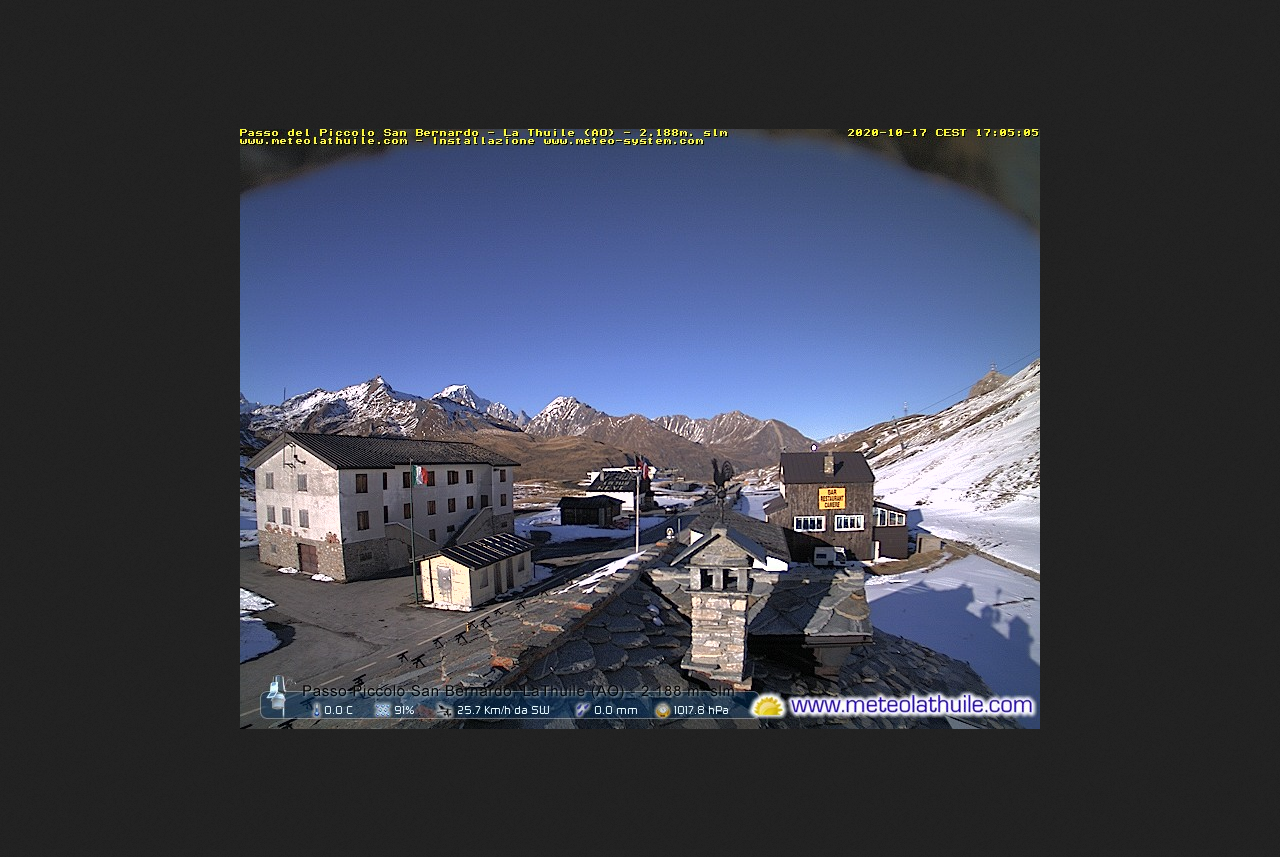yes: (406, 460, 431, 489), (636, 456, 658, 482)
